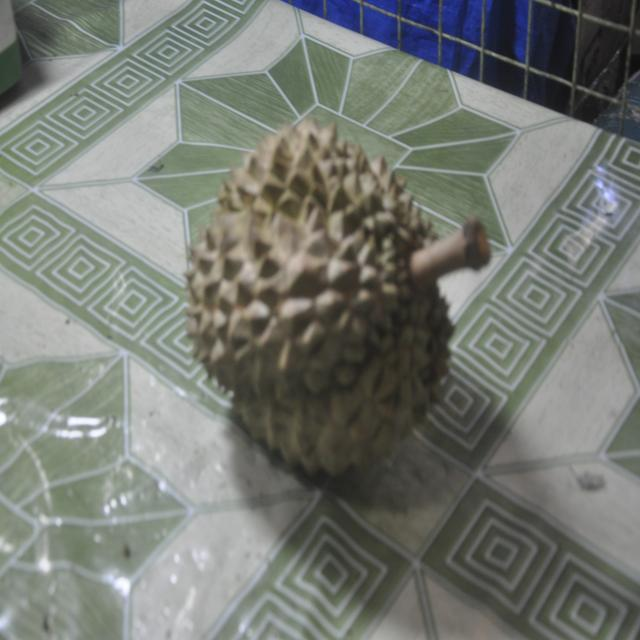mature: (187, 119, 490, 476)
